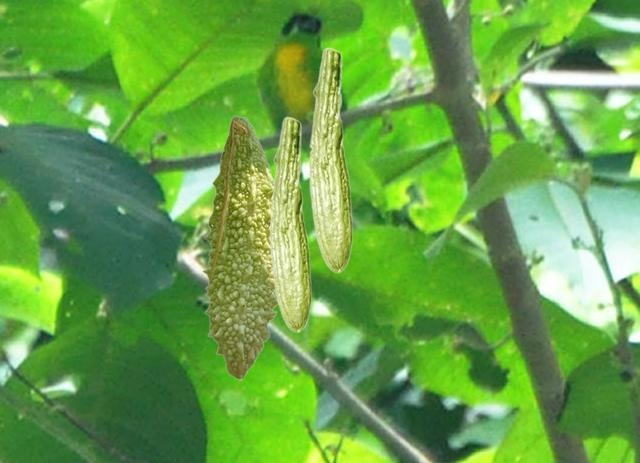ampalaya: (201, 113, 278, 381), (306, 46, 354, 273), (267, 116, 313, 333)
